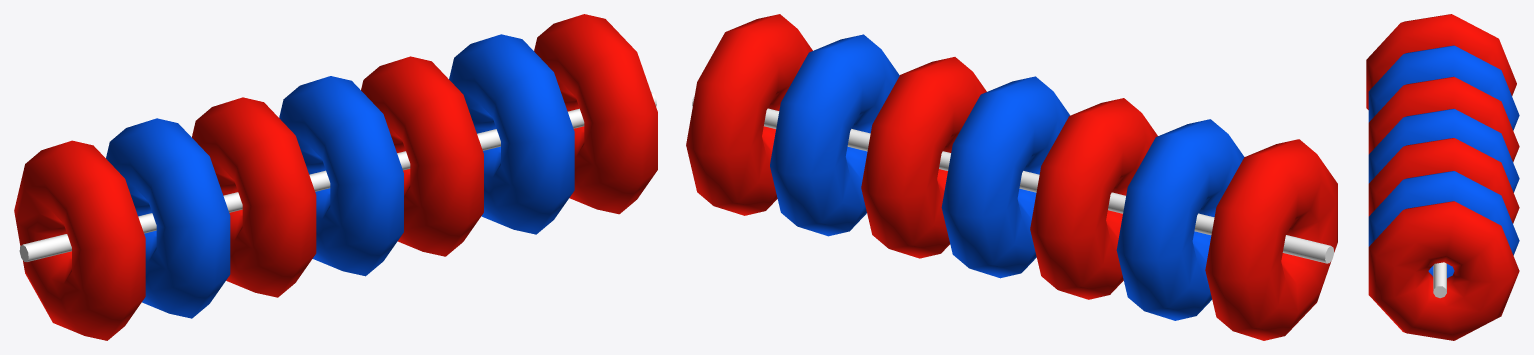
File: corchera.FBX
3 views of the same model, side by side, from view 1: azimuth 30°, elevation 25°; view 2: azimuth 150°, elevation 25°; view 3: azimuth 270°, elevation 25° (orthographic). The views are drawn at different scales.
Parts seen in each view (by area): view 1: Torus001, Torus006, Torus004, Torus003, Torus002, Torus007, Torus005, Cylinder001; view 2: Torus001, Torus006, Torus004, Torus002, Torus003, Torus007, Torus005, Cylinder001; view 3: Torus007, Torus005, Torus003, Torus001, Torus002, Torus006, Torus004, Cylinder001.
Boxes of the visible parts, left/top/right/bottom form: Torus001: left=14, top=140, right=145, bottom=340; Torus006: left=449, top=34, right=574, bottom=234; Torus004: left=279, top=76, right=403, bottom=276; Torus003: left=192, top=97, right=316, bottom=297; Torus002: left=106, top=118, right=230, bottom=318; Torus007: left=534, top=14, right=657, bottom=214; Torus005: left=361, top=56, right=483, bottom=256; Cylinder001: left=19, top=92, right=656, bottom=261; Torus001: left=1205, top=139, right=1337, bottom=340; Torus006: left=770, top=34, right=899, bottom=236; Torus004: left=941, top=76, right=1069, bottom=278; Torus002: left=1116, top=119, right=1244, bottom=320; Torus003: left=1030, top=98, right=1157, bottom=299; Torus007: left=686, top=14, right=812, bottom=215; Torus005: left=861, top=57, right=986, bottom=258; Cylinder001: left=692, top=95, right=1334, bottom=263; Torus007: left=1368, top=201, right=1519, bottom=340; Torus005: left=1368, top=138, right=1519, bottom=223; Torus003: left=1368, top=76, right=1519, bottom=162; Torus001: left=1366, top=14, right=1516, bottom=109; Torus002: left=1368, top=45, right=1519, bottom=130; Torus006: left=1368, top=171, right=1519, bottom=278; Torus004: left=1368, top=108, right=1519, bottom=192; Cylinder001: left=1433, top=262, right=1446, bottom=298.
Bounding box in the file's own units: 29.04 × 8.21 × 8.22.
